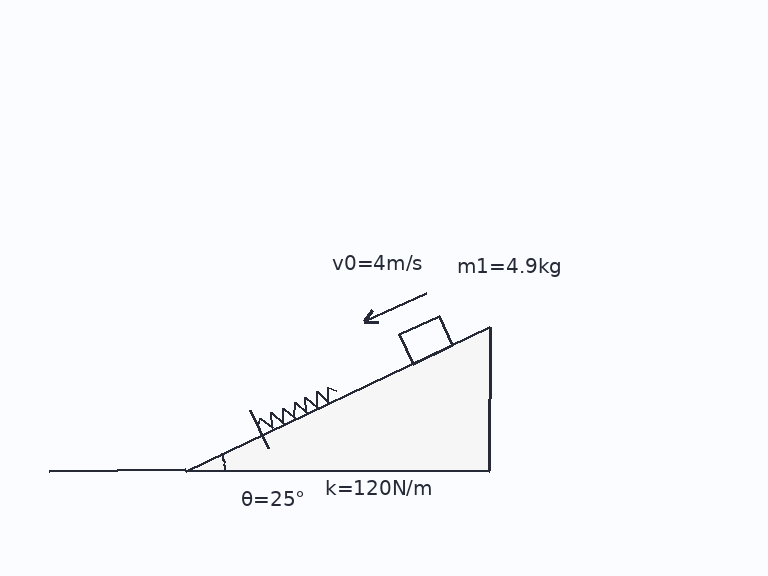block: (397, 314, 455, 366)
ramp: (183, 326, 492, 472)
spring: (255, 384, 338, 429)
